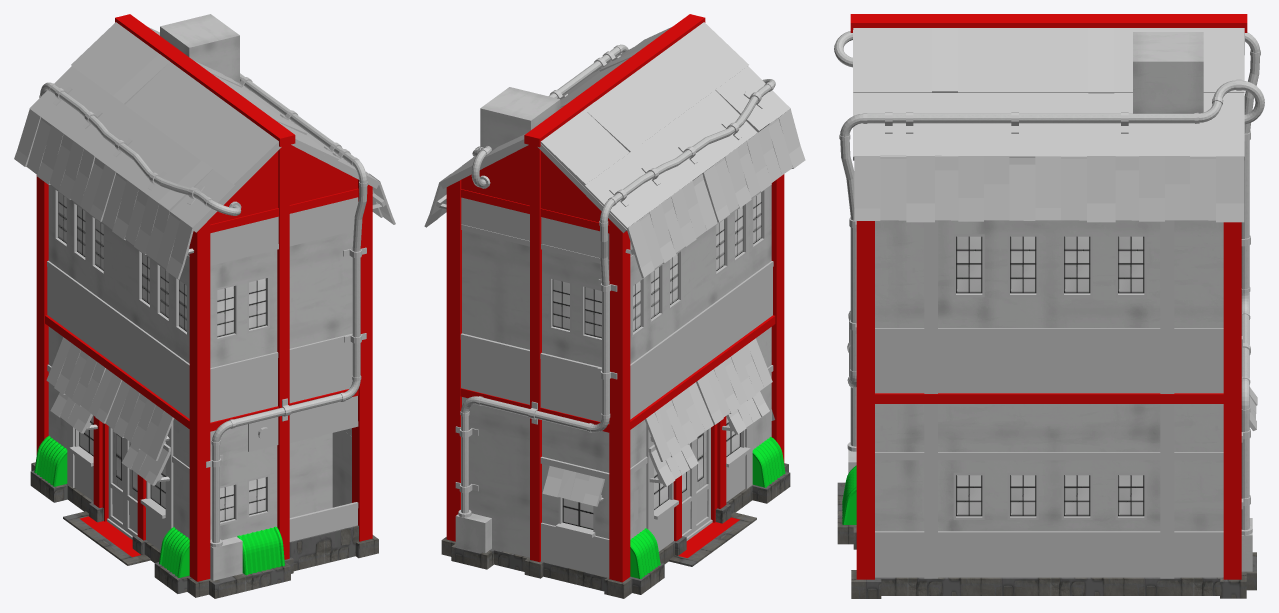
The model's file is SM_ENV_KNVLLG_AreaG_Building_F.mo.fbx.
The picture shows the model from 3 angles, left to right: view 1: azimuth 30°, elevation 25°; view 2: azimuth 150°, elevation 25°; view 3: azimuth 270°, elevation 25°; orthographic projection. The views are drawn at different scales.
Parts seen in each view (by area): view 1: SM_ENV_KNVLLG_AreaG_Building_F.mo; view 2: SM_ENV_KNVLLG_AreaG_Building_F.mo; view 3: SM_ENV_KNVLLG_AreaG_Building_F.mo.
Boxes of the visible parts, left/top/right/bottom form: SM_ENV_KNVLLG_AreaG_Building_F.mo: left=14, top=14, right=395, bottom=598; SM_ENV_KNVLLG_AreaG_Building_F.mo: left=424, top=14, right=805, bottom=598; SM_ENV_KNVLLG_AreaG_Building_F.mo: left=834, top=14, right=1264, bottom=598.
Bounding box in the file's own units: 6.38 × 12.18 × 9.02.
